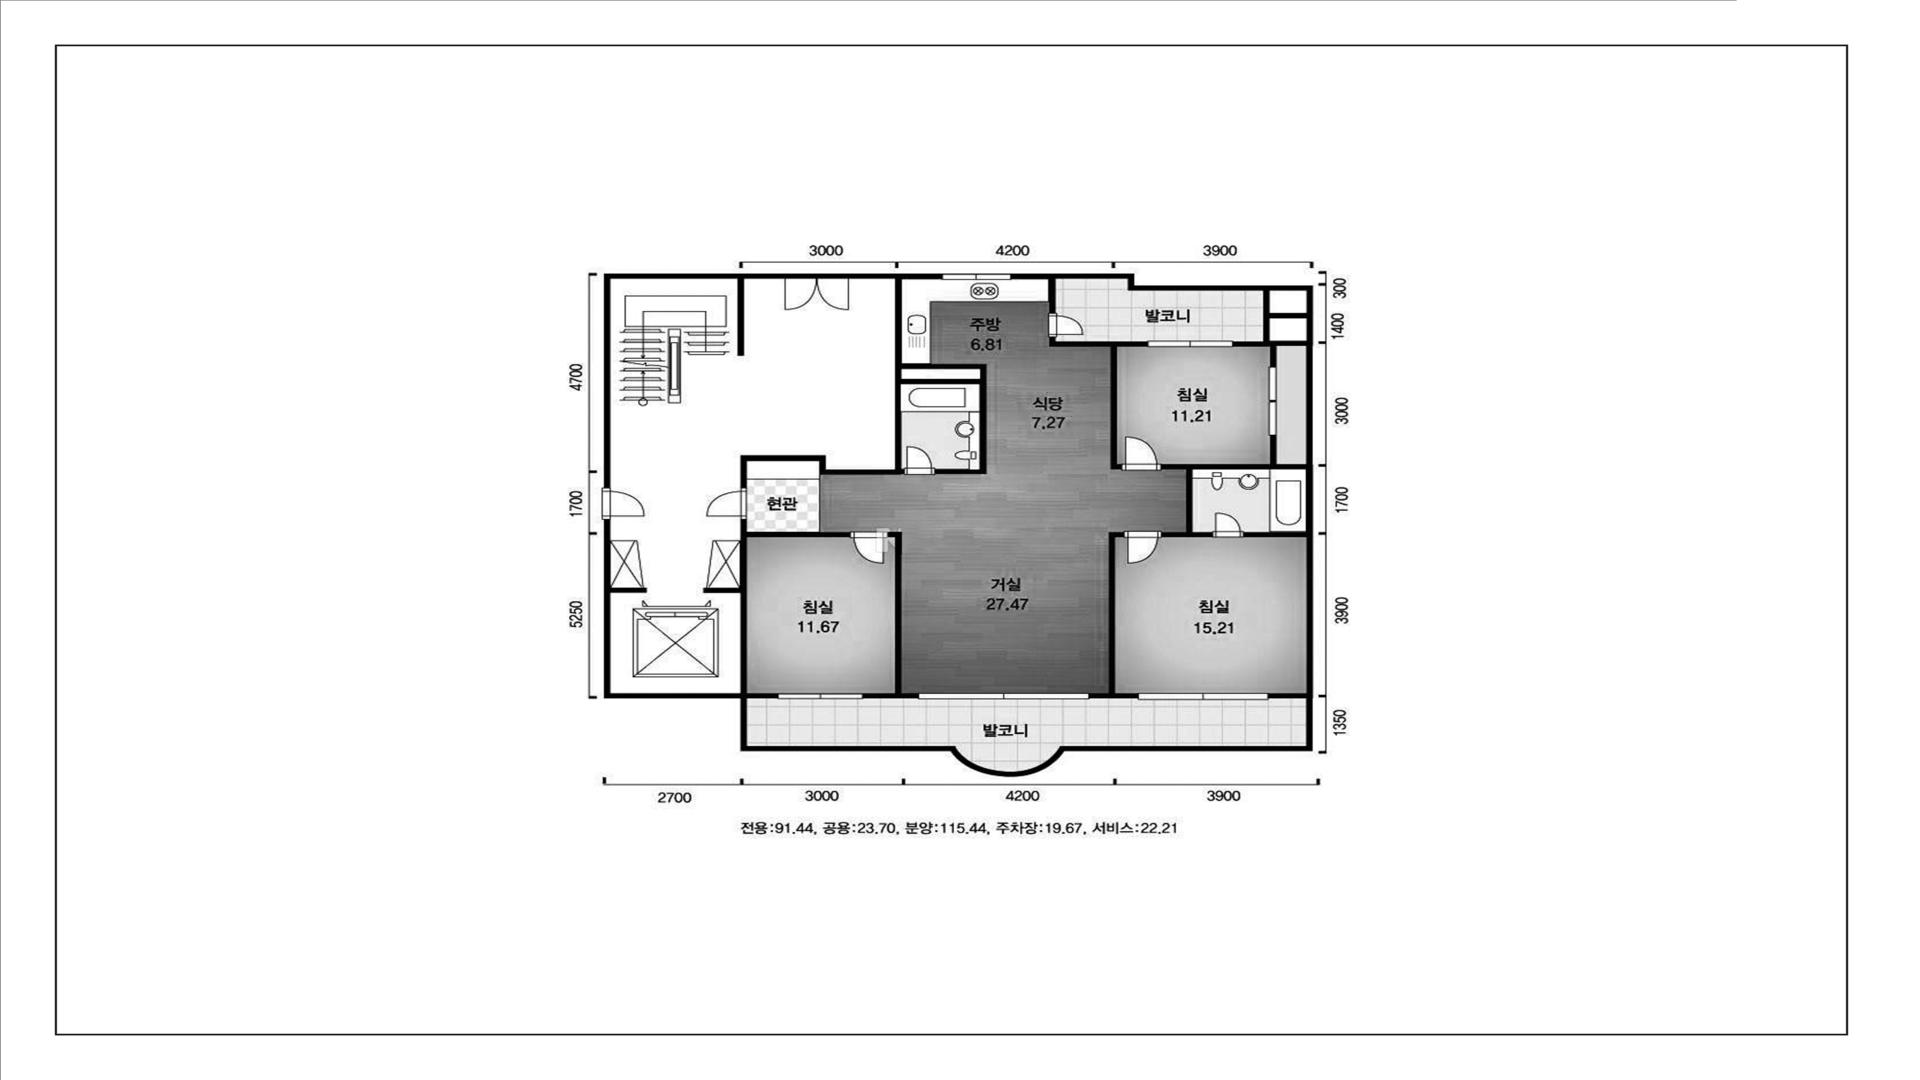door: (785, 273, 849, 310), (1121, 436, 1162, 471), (601, 488, 645, 520), (705, 488, 746, 520), (1124, 531, 1162, 564), (849, 531, 887, 564), (1048, 313, 1084, 338), (905, 446, 935, 475), (1212, 513, 1244, 538), (942, 273, 1011, 280)
wall: (604, 273, 1313, 777), (740, 273, 942, 488), (604, 273, 785, 488), (1162, 435, 1305, 538), (1048, 338, 1147, 469), (901, 363, 988, 475), (864, 531, 918, 699), (1089, 531, 1138, 699), (1233, 291, 1305, 367), (746, 531, 851, 538), (737, 278, 745, 356), (1244, 531, 1305, 538), (1048, 278, 1056, 314), (1269, 692, 1305, 699), (611, 587, 646, 593), (703, 588, 740, 593), (746, 694, 778, 699), (901, 468, 905, 475)
window: (918, 692, 1089, 699), (1138, 692, 1269, 700), (1147, 340, 1233, 347), (778, 694, 864, 699)
